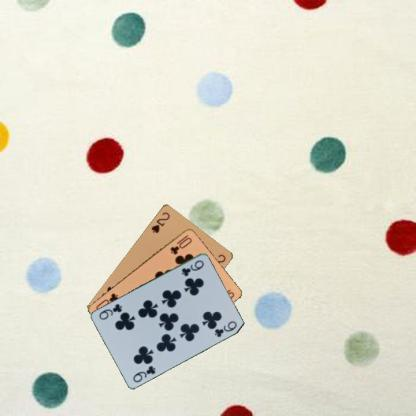10c: (168, 232, 193, 256)
2s: (149, 209, 171, 234)
9c: (131, 362, 157, 384), (179, 257, 205, 277)
